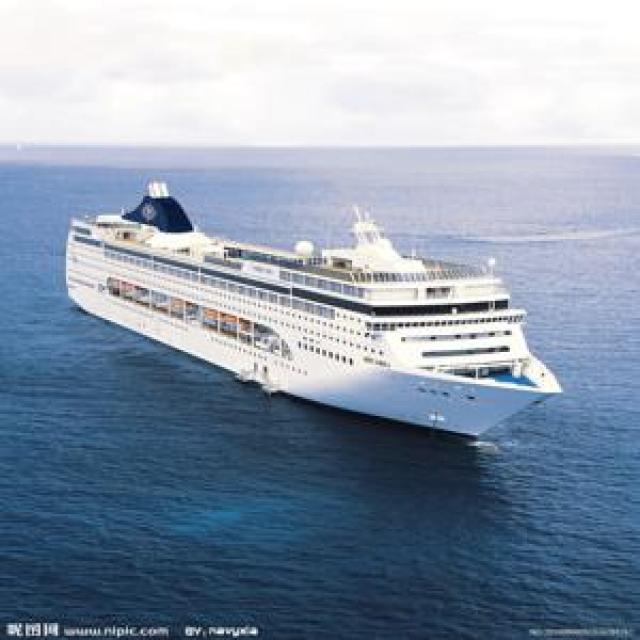passenger ship: (60, 174, 562, 437)
